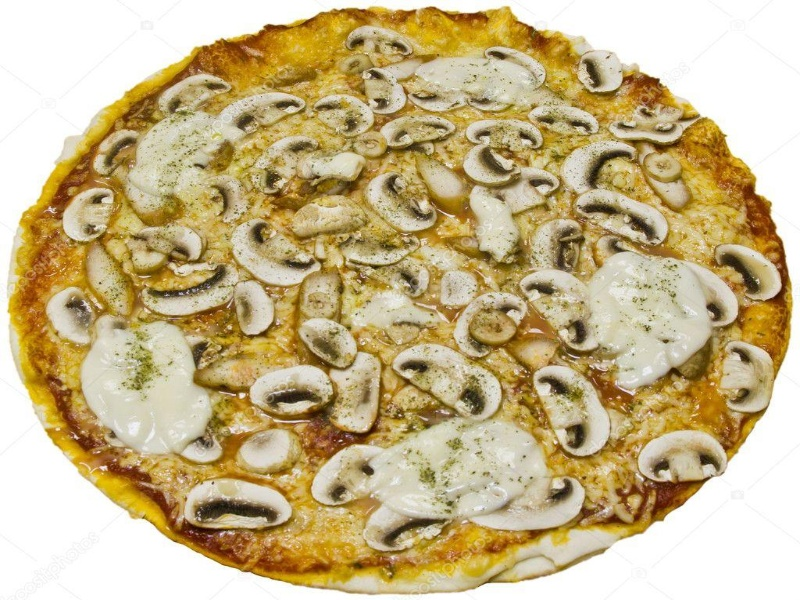champignon: (522, 360, 616, 465), (515, 267, 609, 368), (390, 341, 505, 423), (179, 472, 297, 537), (227, 217, 323, 291), (568, 186, 675, 249), (138, 263, 240, 320), (635, 430, 731, 490), (714, 335, 778, 418), (245, 365, 337, 421), (709, 237, 788, 302), (362, 170, 440, 235), (216, 87, 308, 140), (154, 70, 231, 121), (57, 186, 119, 243), (461, 114, 548, 151), (40, 288, 95, 345), (340, 23, 416, 62), (357, 64, 408, 122), (531, 106, 600, 139)
